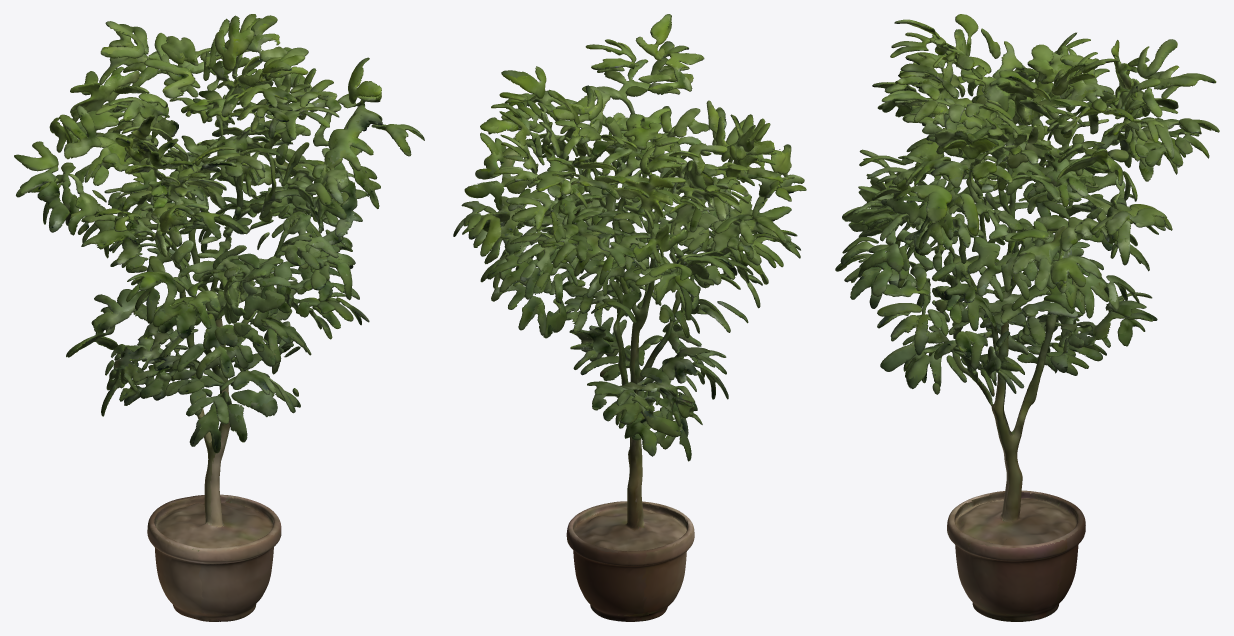
The model's file is neemCompressed.glb.
3 views of the same model, side by side, from view 1: azimuth 30°, elevation 25°; view 2: azimuth 150°, elevation 25°; view 3: azimuth 270°, elevation 25° (orthographic). The views are drawn at different scales.
Parts seen in each view (by area): view 1: Object_3; view 2: Object_3; view 3: Object_3.
Part boxes in pixels (x1,y1,x2,y2): Object_3: (14, 14, 424, 621); Object_3: (453, 14, 806, 621); Object_3: (835, 14, 1219, 621).
Size of the model in its own units: 1.17 by 2 by 1.17.
Materials: 1 (1 with a texture image).
